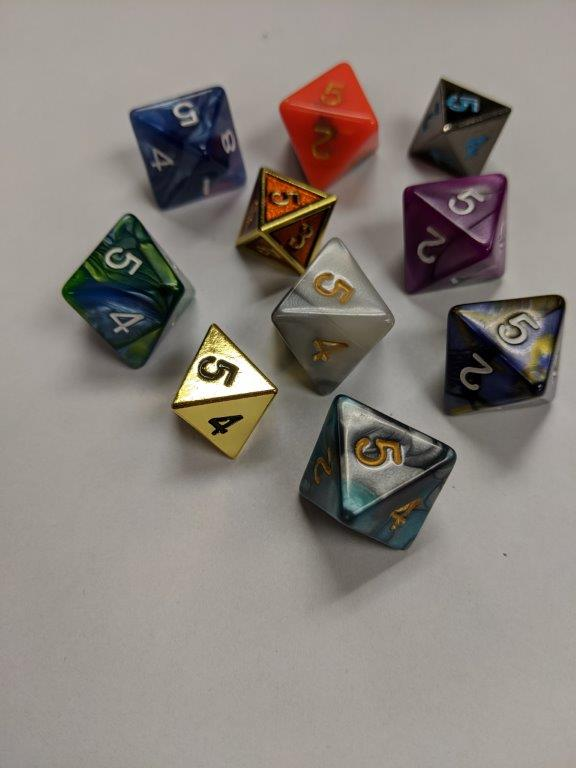d8-5: (298, 394, 458, 552), (58, 213, 192, 371), (270, 239, 400, 390), (170, 319, 279, 462), (133, 85, 248, 214), (277, 59, 382, 194), (443, 299, 564, 412), (407, 175, 510, 290), (233, 167, 335, 271), (409, 77, 510, 181)
